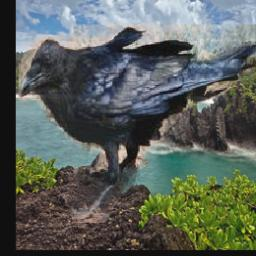Crow: (19, 25, 256, 224)
